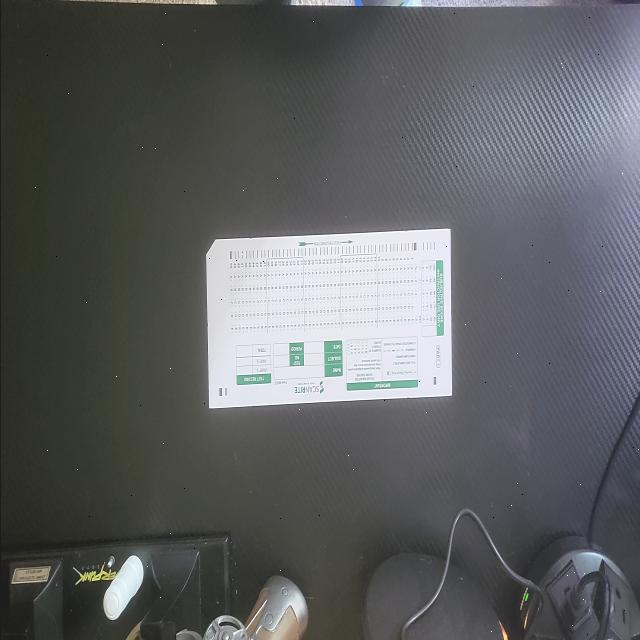scantron: (205, 229, 450, 409)
